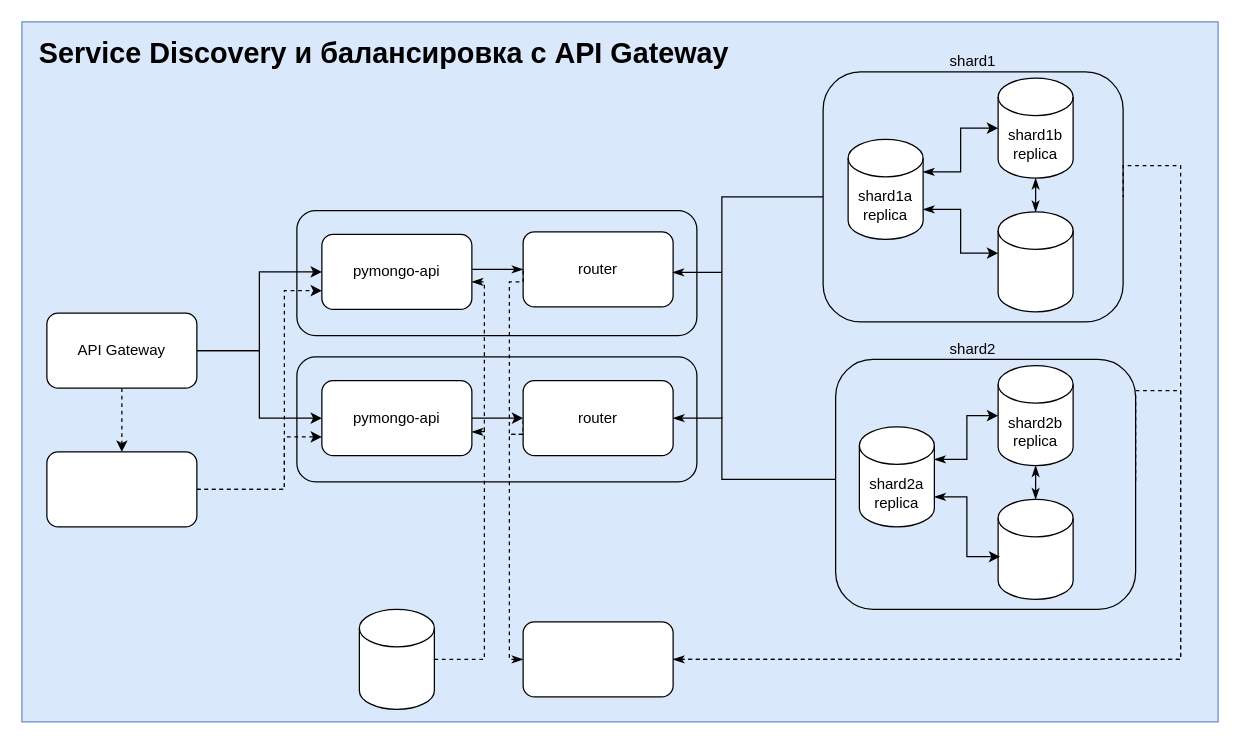
This 1240x744 diagram has some shape labels left out. The shapes that lost their labels are listed below. From the top down, each one's centre as x and y in pixels, then its label:
At point 1035,261: "shard1c replica".
At point 121,489: "Service Discovery".
At point 1035,548: "shard2c replica".
At point 396,658: "redis".
At point 597,659: "configSrv".
